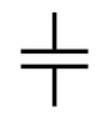Capacitor: (13, 40, 92, 80)
